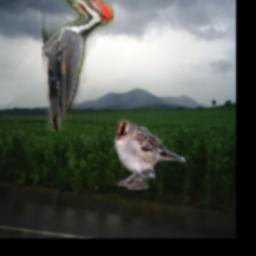Sparrow: (112, 119, 186, 191)
Woodpecker: (42, 0, 114, 132)
